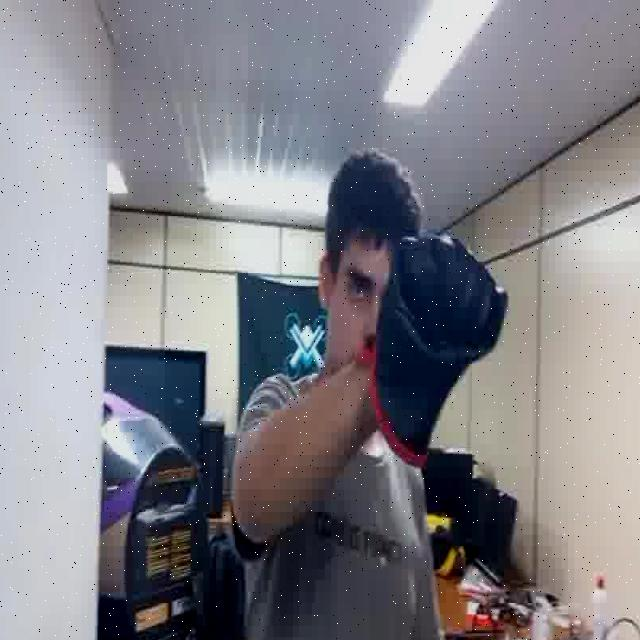Gloves: (373, 232, 510, 461)
